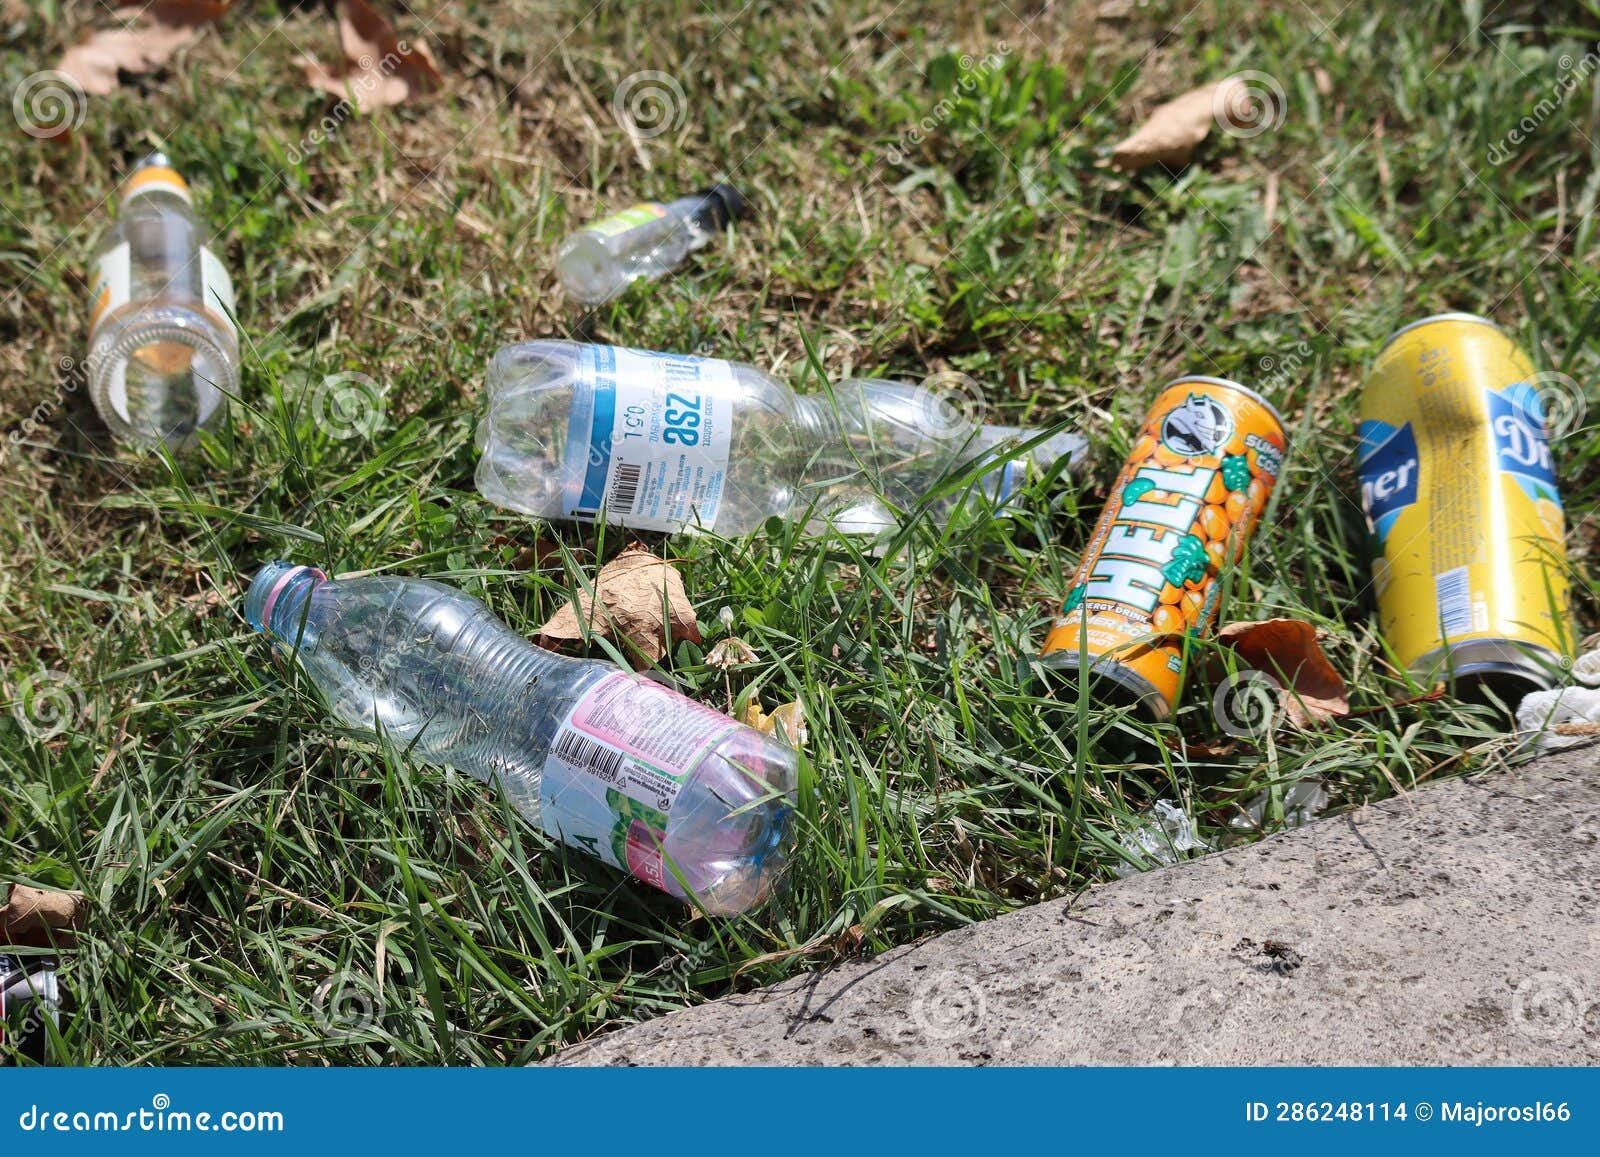glass: (78, 121, 288, 441)
metal: (1052, 326, 1283, 769), (1343, 302, 1579, 692)
plastic: (186, 569, 837, 966), (430, 317, 1109, 574), (561, 152, 755, 314)
